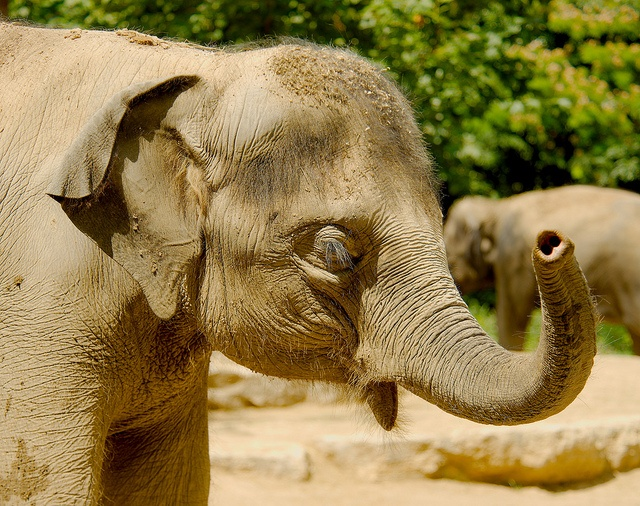elephant: (0, 23, 596, 504), (444, 182, 640, 351)
